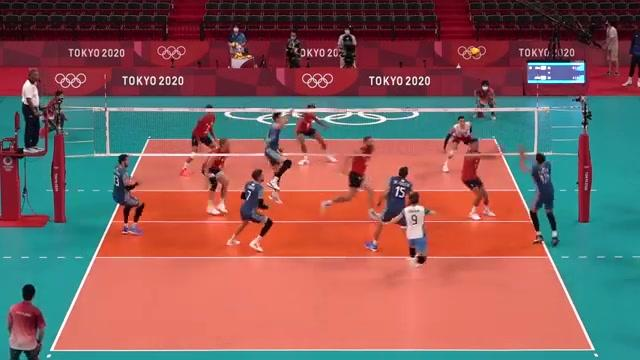ball: (470, 47, 479, 58)
